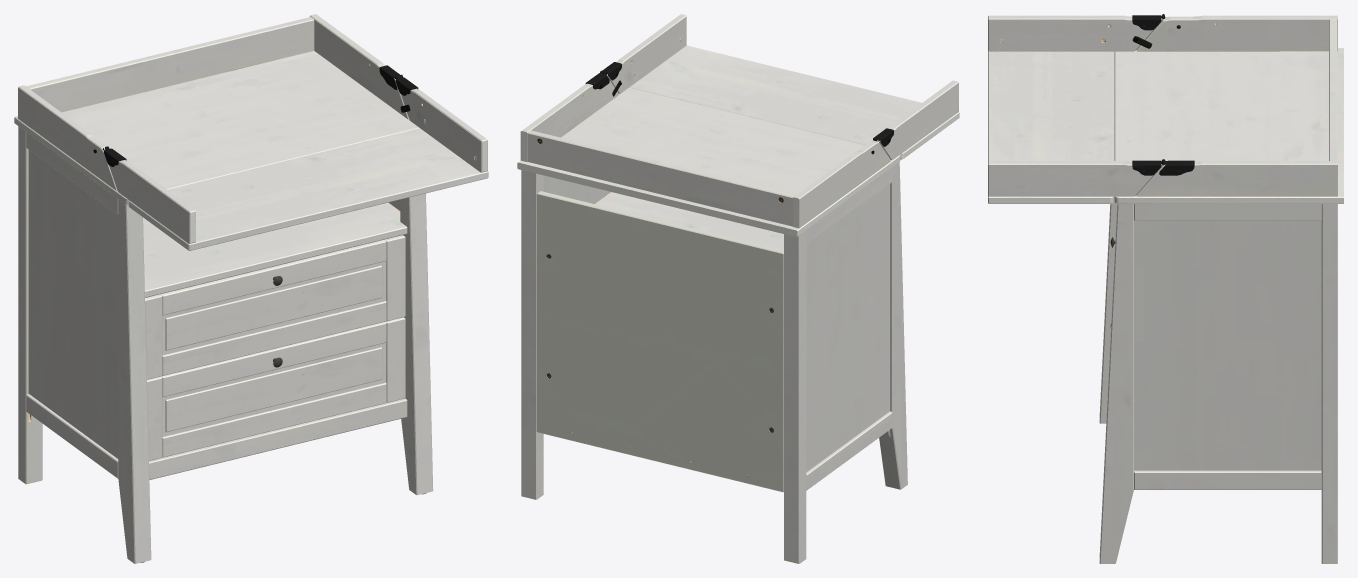
3 views of the same model, side by side, from view 1: azimuth 30°, elevation 25°; view 2: azimuth 150°, elevation 25°; view 3: azimuth 270°, elevation 25° (orthographic). The views are drawn at different scales.
Parts seen in each view (by area): view 1: ASY_ART_70591301_S01_NV01, ASY_LPT01_70591301_S01_NV01 (×2), ASY_LPT02_70591301_S01_NV01; view 2: ASY_ART_70591301_S01_NV01, ASY_LPT02_70591301_S01_NV01; view 3: ASY_ART_70591301_S01_NV01, ASY_LPT02_70591301_S01_NV01.
Part boxes in pixels (left/top/right/bottom): ASY_ART_70591301_S01_NV01: left=14, top=14, right=433, bottom=563; ASY_LPT01_70591301_S01_NV01 (×2): left=145, top=235, right=405, bottom=460; ASY_LPT02_70591301_S01_NV01: left=103, top=75, right=488, bottom=250; ASY_ART_70591301_S01_NV01: left=517, top=70, right=907, bottom=563; ASY_LPT02_70591301_S01_NV01: left=601, top=14, right=959, bottom=160; ASY_ART_70591301_S01_NV01: left=1099, top=15, right=1343, bottom=563; ASY_LPT02_70591301_S01_NV01: left=988, top=14, right=1165, bottom=203.
Bounding box in the file's own units: 0.7906 × 0.9841 × 0.788.
4 materials, 4 textured.
